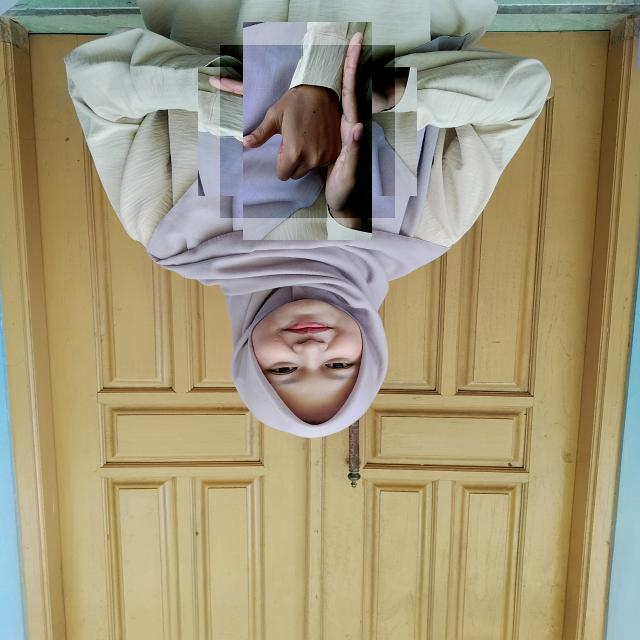cantik: (220, 45, 395, 218)
